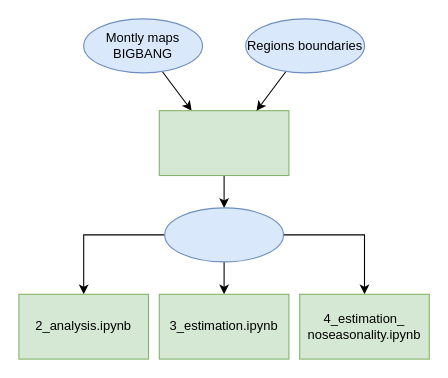
Some shapes in this 448 by 378 pixel diagram are drawn without their labels. Here are the shapes that lost their labels. From the top down, the centre of each, then its label:
At [223,143]: "1_estraction.py".
At [224,234]: "Montly CSV data".
